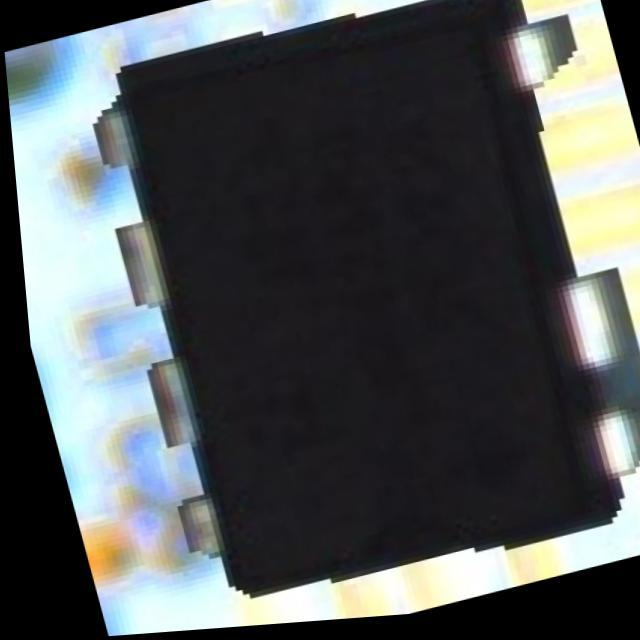IC: (49, 0, 640, 637)
